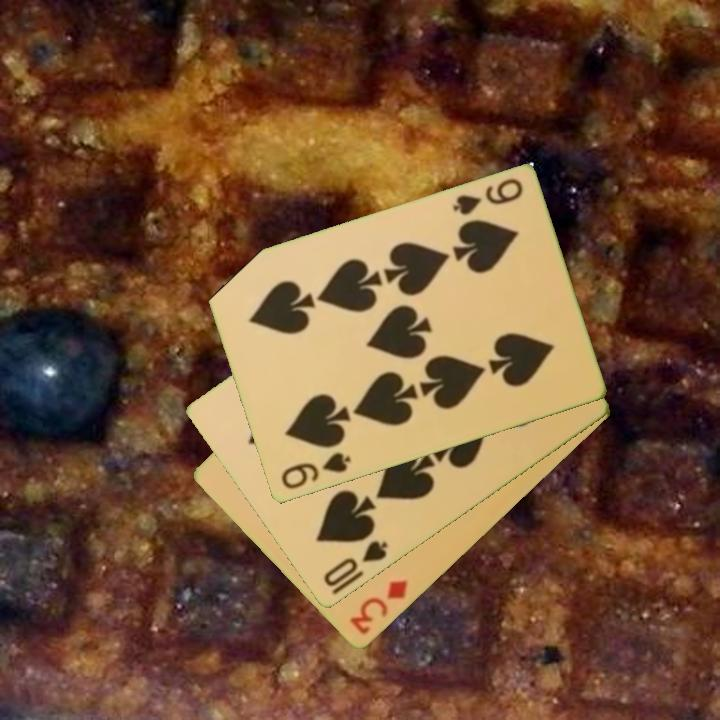10s: (320, 537, 391, 591)
3d: (346, 577, 411, 639)
9s: (448, 175, 526, 219), (277, 449, 354, 493)
